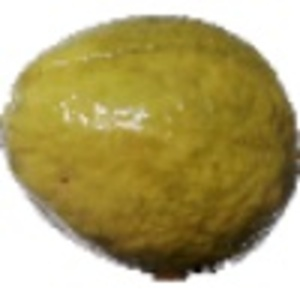goiaba: (3, 16, 298, 279)
